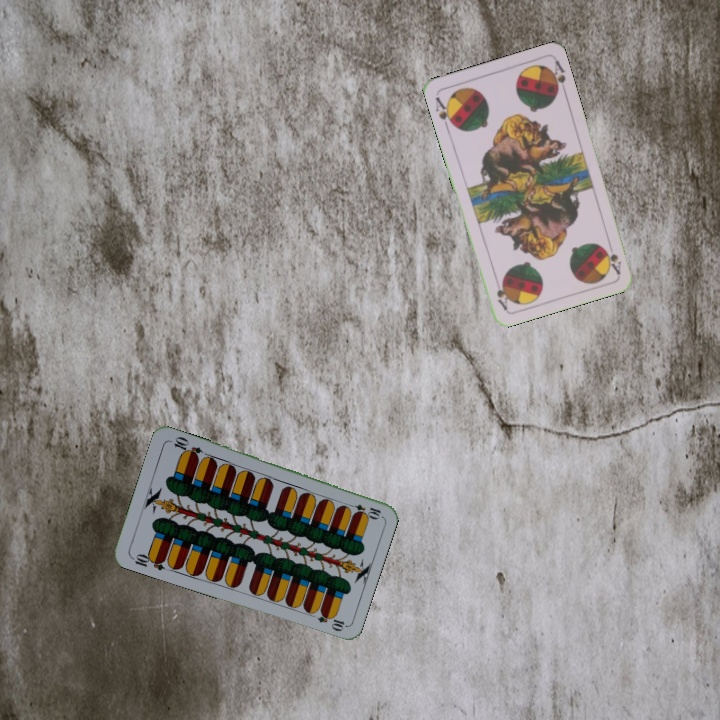E10: (127, 550, 168, 573), (343, 500, 383, 520)
SA: (431, 93, 457, 132), (600, 237, 624, 277)
